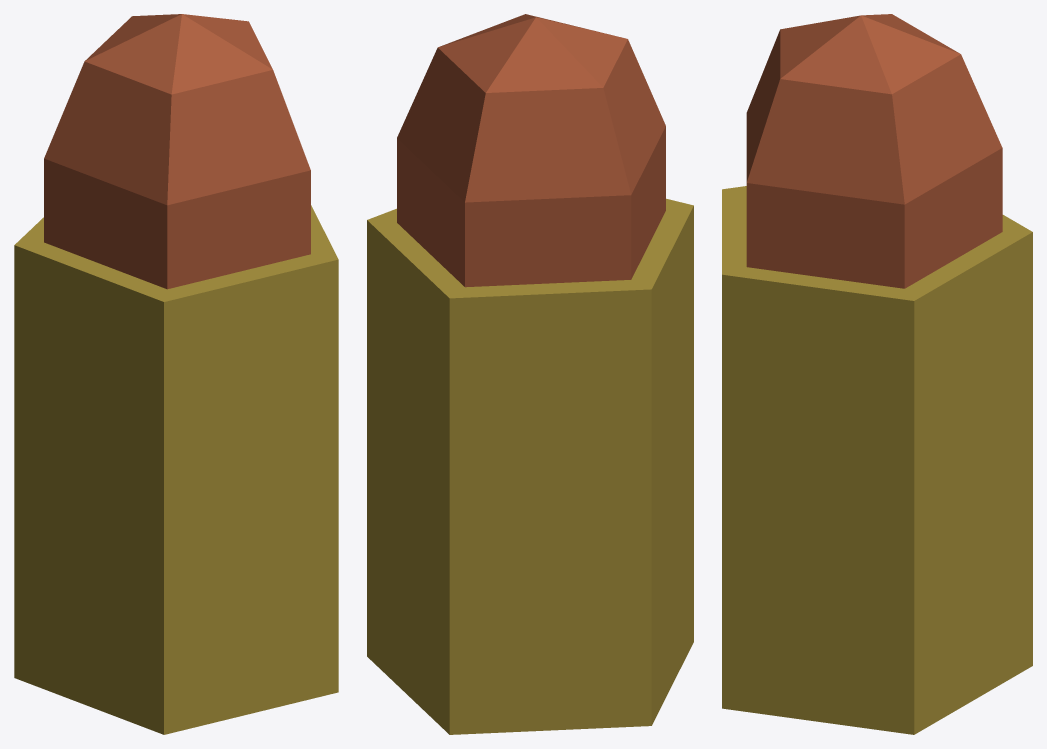
The model's file is LPWarPack_PistolRound.fbx.
3 renders of one model, left to right at view 1: azimuth 30°, elevation 25°; view 2: azimuth 150°, elevation 25°; view 3: azimuth 270°, elevation 25°, orthographic.
Visible parts, largest first — view 1: PistolRound; view 2: PistolRound; view 3: PistolRound.
Part boxes in pixels (x1,y1,x2,y2): PistolRound: [14, 14, 338, 734]; PistolRound: [367, 14, 693, 734]; PistolRound: [722, 14, 1032, 734].
Bounding box in the file's own units: 1.24 × 2.73 × 1.18.
